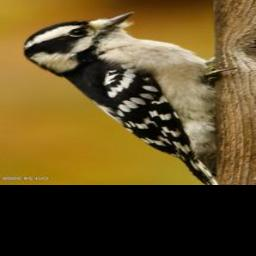Woodpecker: (22, 10, 233, 184)
